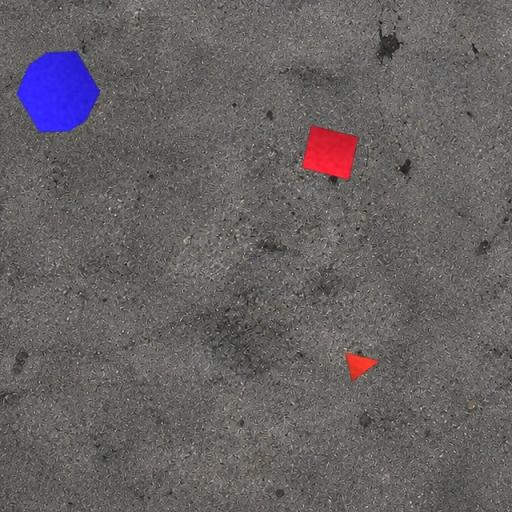RED_SQUARE: (301, 124, 359, 181)
